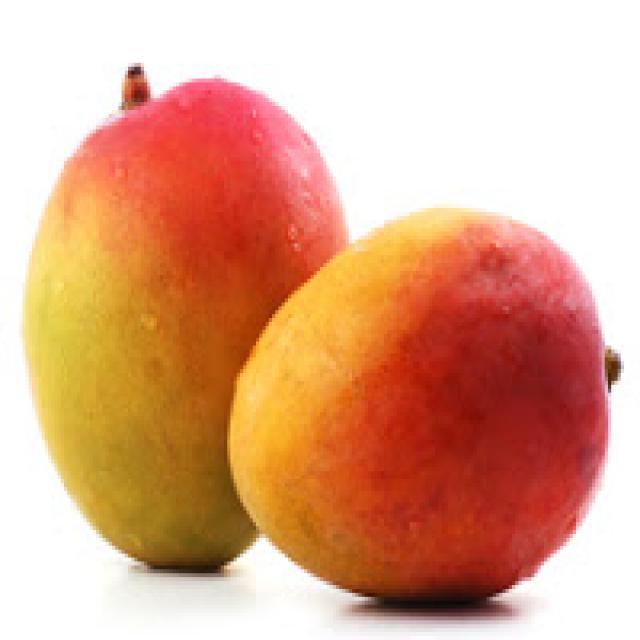mango: (14, 60, 354, 591), (230, 208, 615, 603)
